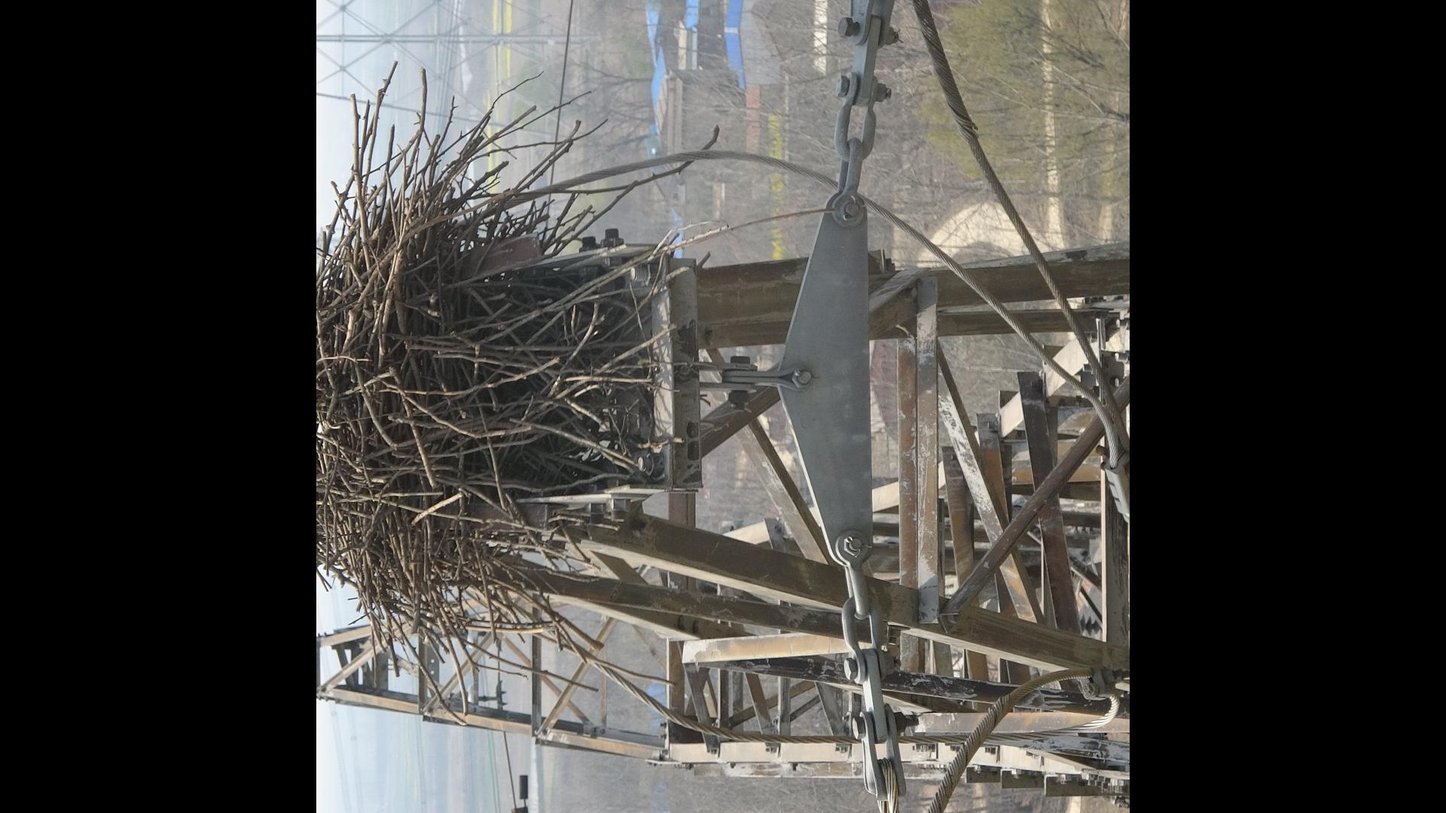nest: (316, 109, 675, 676)
